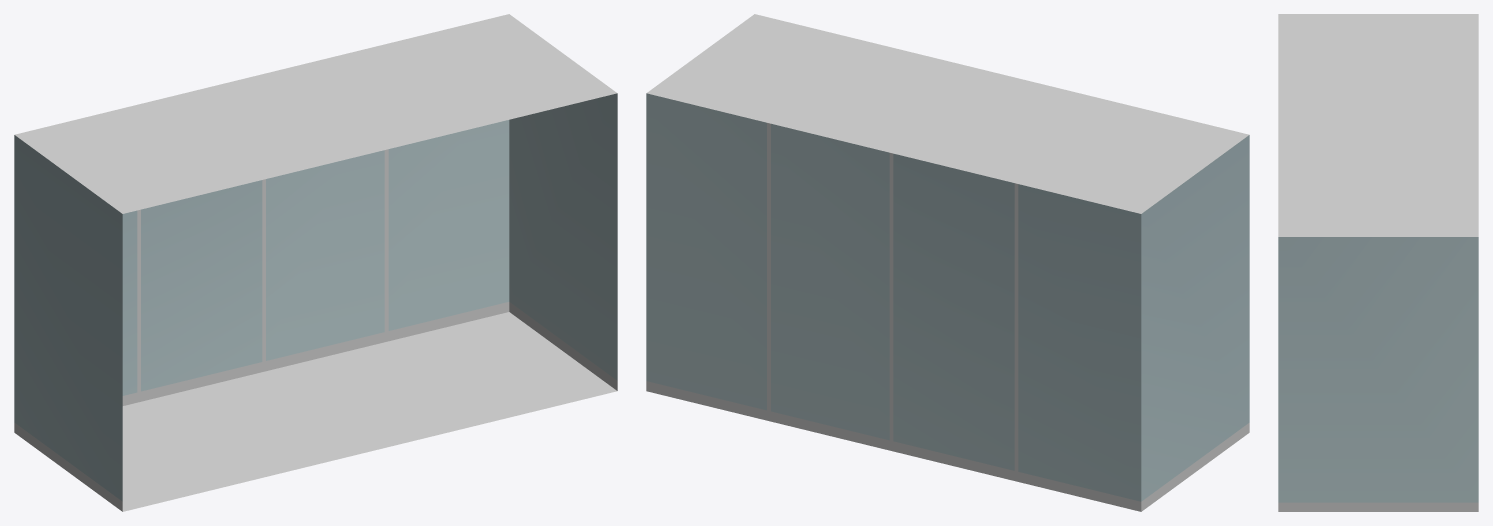
File: ClosedSmall.fbx
3 views of the same model, side by side, from view 1: azimuth 30°, elevation 25°; view 2: azimuth 150°, elevation 25°; view 3: azimuth 270°, elevation 25° (orthographic). The views are drawn at different scales.
Visible parts, largest first — view 1: Balkon Zakrit; view 2: Balkon Zakrit; view 3: Balkon Zakrit.
Boxes of the visible parts, x1,y1,x2,y2 form: Balkon Zakrit: (14, 14, 617, 511); Balkon Zakrit: (646, 14, 1249, 511); Balkon Zakrit: (1278, 14, 1478, 511).
Bounding box in the file's own units: 1267 × 729 × 480.
